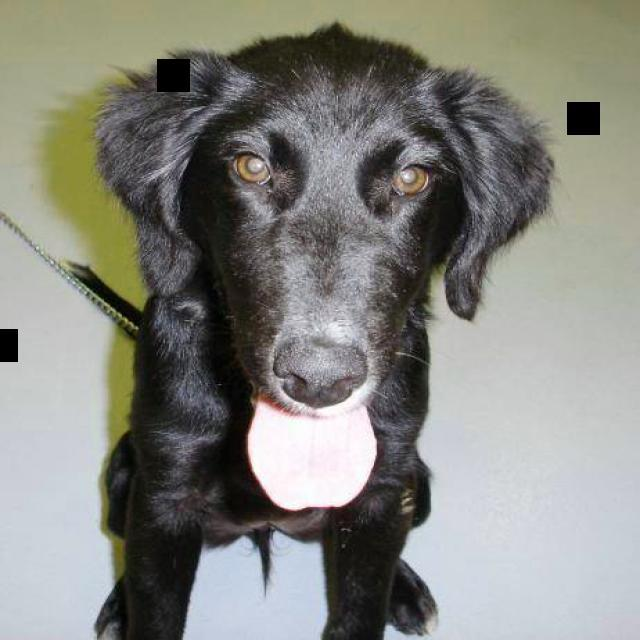puppy-dog: (92, 21, 557, 640)
